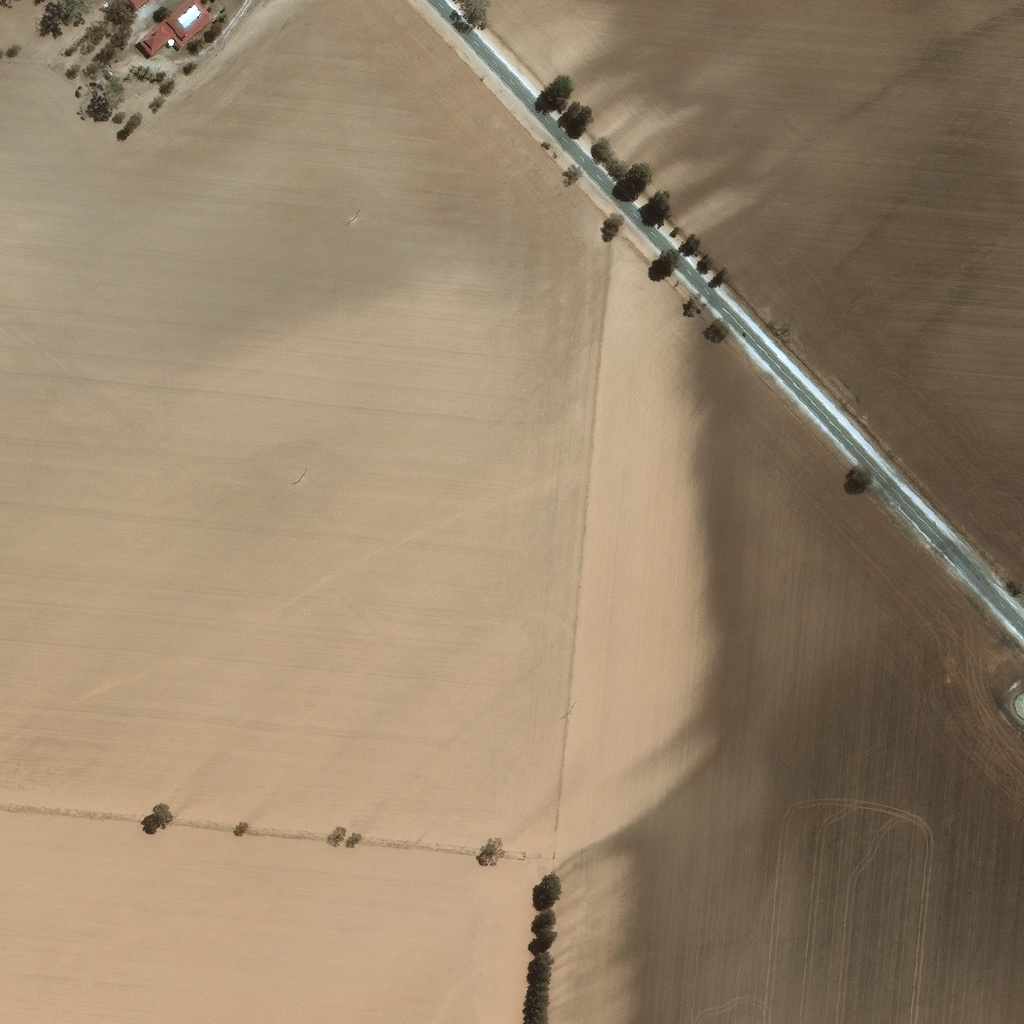0 no-damage: (138, 0, 216, 52), (106, 67, 113, 73)
